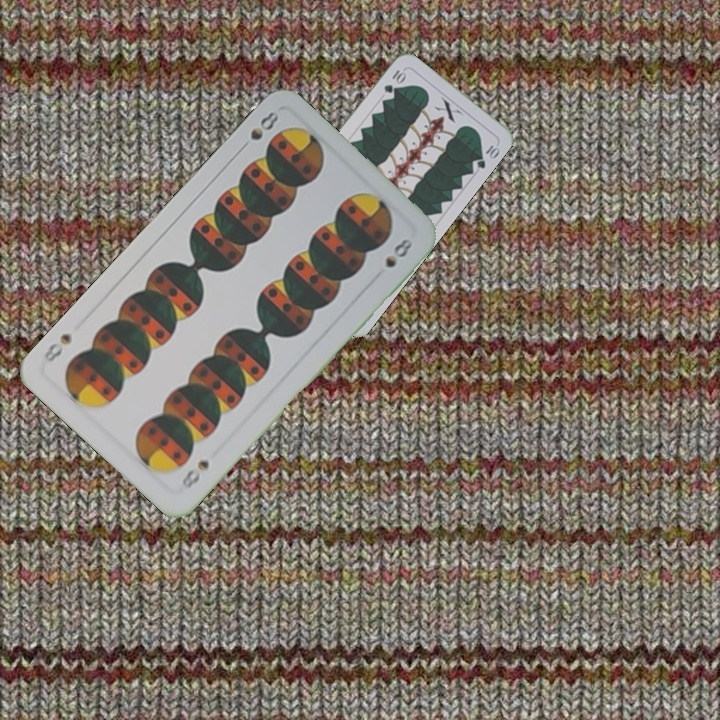G10: (380, 65, 409, 96)
S8: (235, 107, 282, 155), (177, 456, 212, 492)
